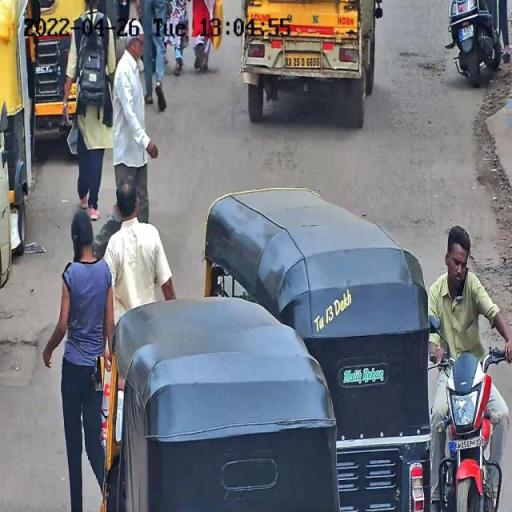using mobile: (442, 258, 476, 304)
